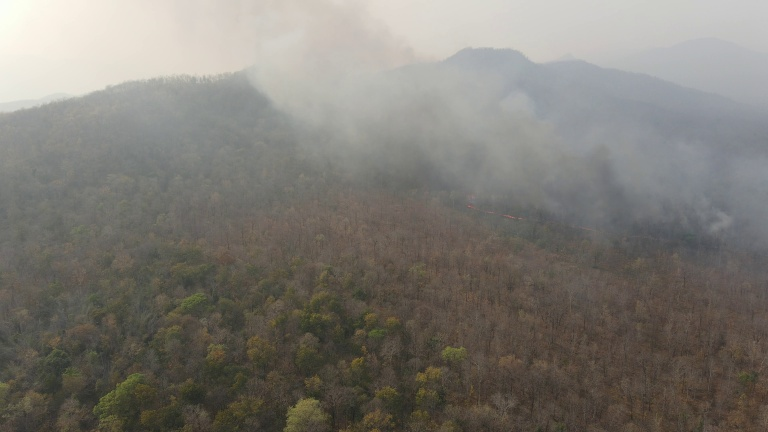fire: (466, 197, 534, 225), (567, 221, 604, 234)
smoke: (201, 3, 552, 206), (541, 104, 768, 254)
